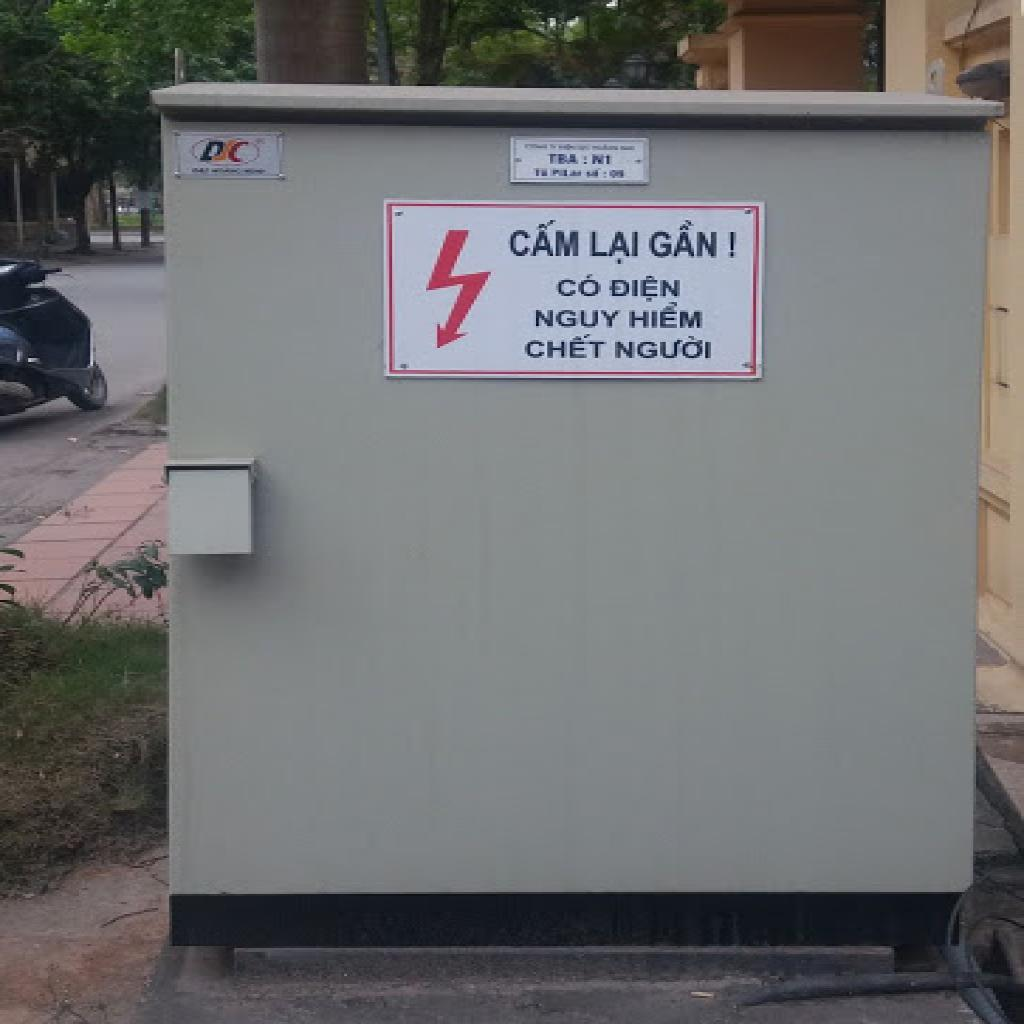text: (646, 220, 742, 262), (505, 216, 590, 260), (612, 334, 717, 362), (522, 332, 609, 362), (626, 302, 708, 332), (587, 226, 643, 266), (533, 308, 626, 332), (610, 276, 686, 304), (553, 272, 606, 302), (544, 152, 592, 168), (592, 154, 615, 168)
